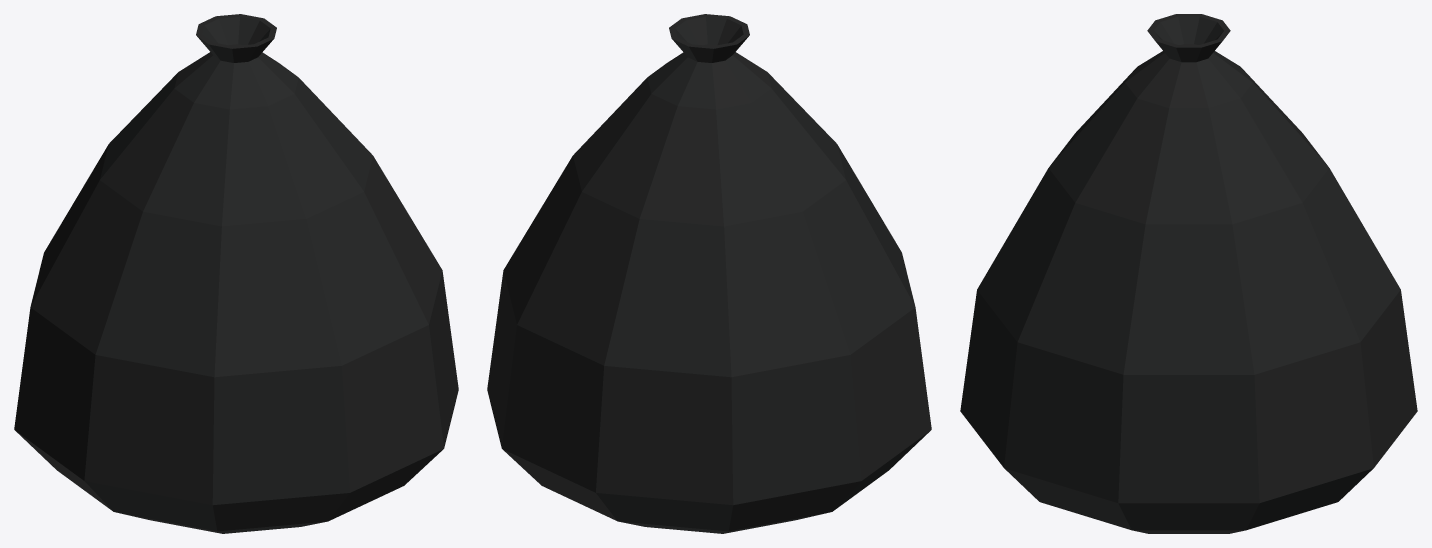
The model's file is Road_Objects_Trash.fbx.
The picture shows the model from 3 angles, left to right: view 1: azimuth 30°, elevation 25°; view 2: azimuth 150°, elevation 25°; view 3: azimuth 270°, elevation 25°; orthographic projection.
Visible parts, largest first — view 1: Road_Objects_Trash; view 2: Road_Objects_Trash; view 3: Road_Objects_Trash.
Boxes of the visible parts, x1=… form: Road_Objects_Trash: x1=14, y1=14, x2=458, y2=533; Road_Objects_Trash: x1=487, y1=14, x2=931, y2=533; Road_Objects_Trash: x1=960, y1=14, x2=1417, y2=533.
Size of the model in its own units: 64.61 by 73.92 by 67.94.
